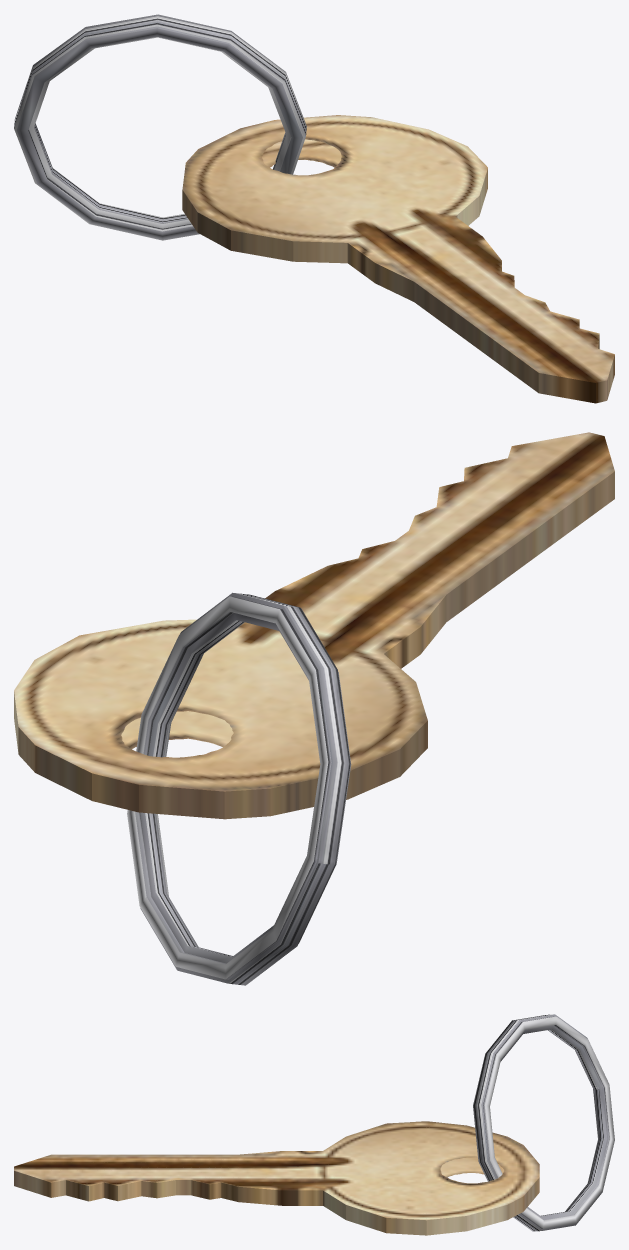
Rendered from key.fbx.
3 views of the same model, one above another, from view 1: azimuth 30°, elevation 25°; view 2: azimuth 150°, elevation 25°; view 3: azimuth 270°, elevation 25° (orthographic). The views are drawn at different scales.
Visible parts, largest first — view 1: key_circ; view 2: key_circ; view 3: key_circ.
Part boxes in pixels (bbox=[...]): key_circ: bbox=[14, 14, 614, 403]; key_circ: bbox=[14, 432, 614, 985]; key_circ: bbox=[14, 1014, 614, 1235].
Size of the model in its own units: 11.45 by 8.32 by 23.46.
1 material, 1 textured.
